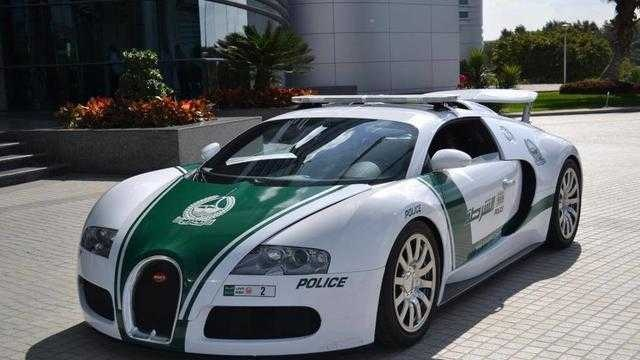Police Car: (72, 75, 587, 354)
